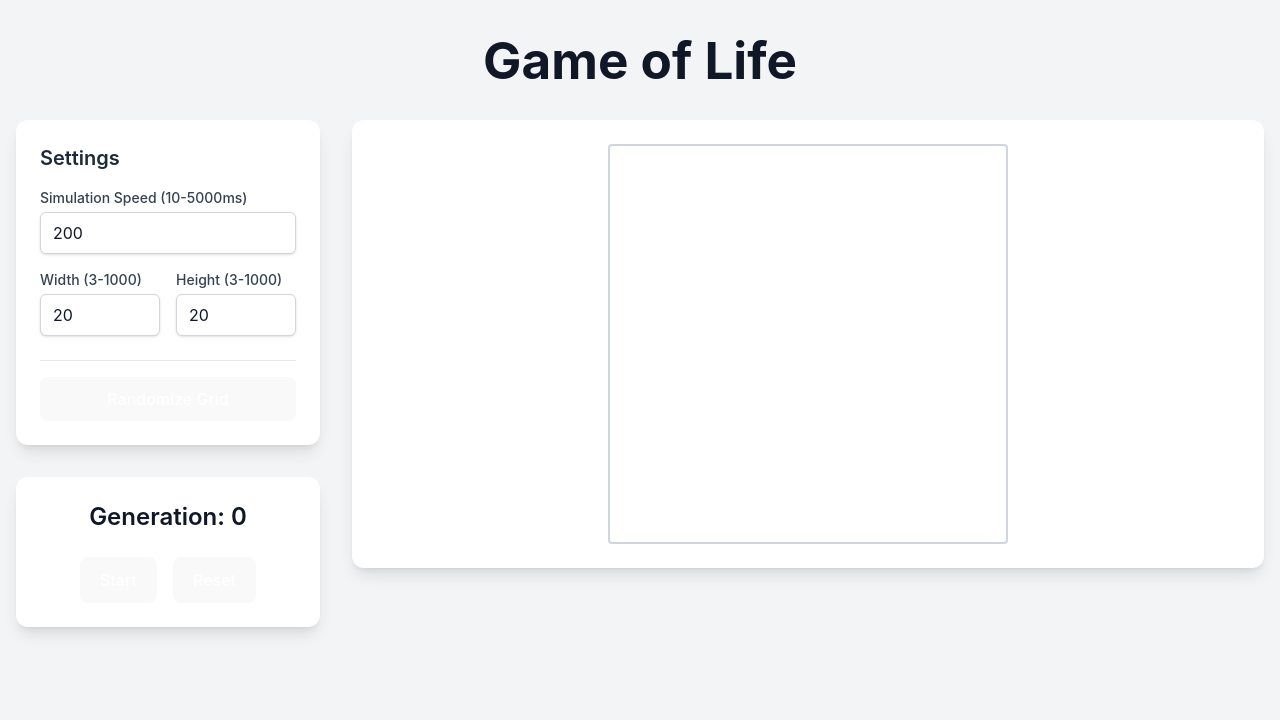
Game of Life Integration Tests › should handle edge cases gracefully
Replace the text in the number field labelled "Width (3-1000)" with "1" at (100, 315), box [40,294,160,336]
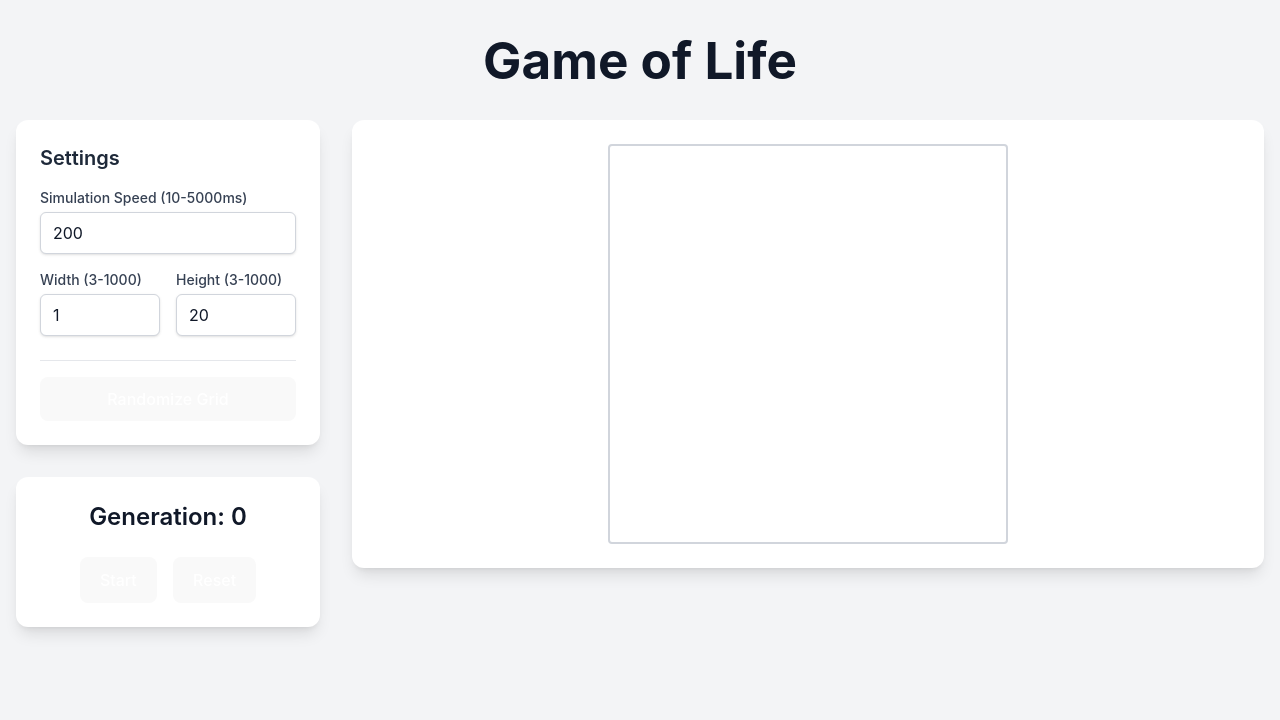
Replace the text in the number field labelled "Height (3-1000)" with "1" at (236, 315), box [176,294,296,336]
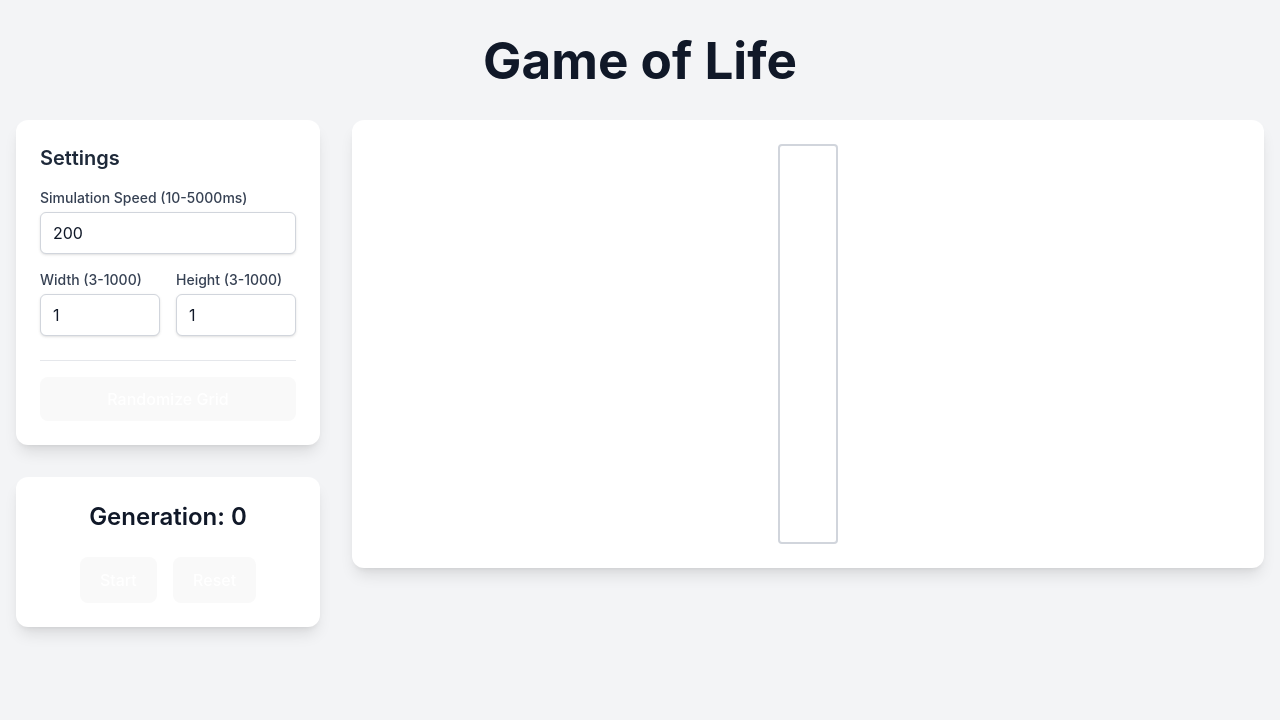
Leave the number field labelled "Height (3-1000)", box [176,294,296,336]
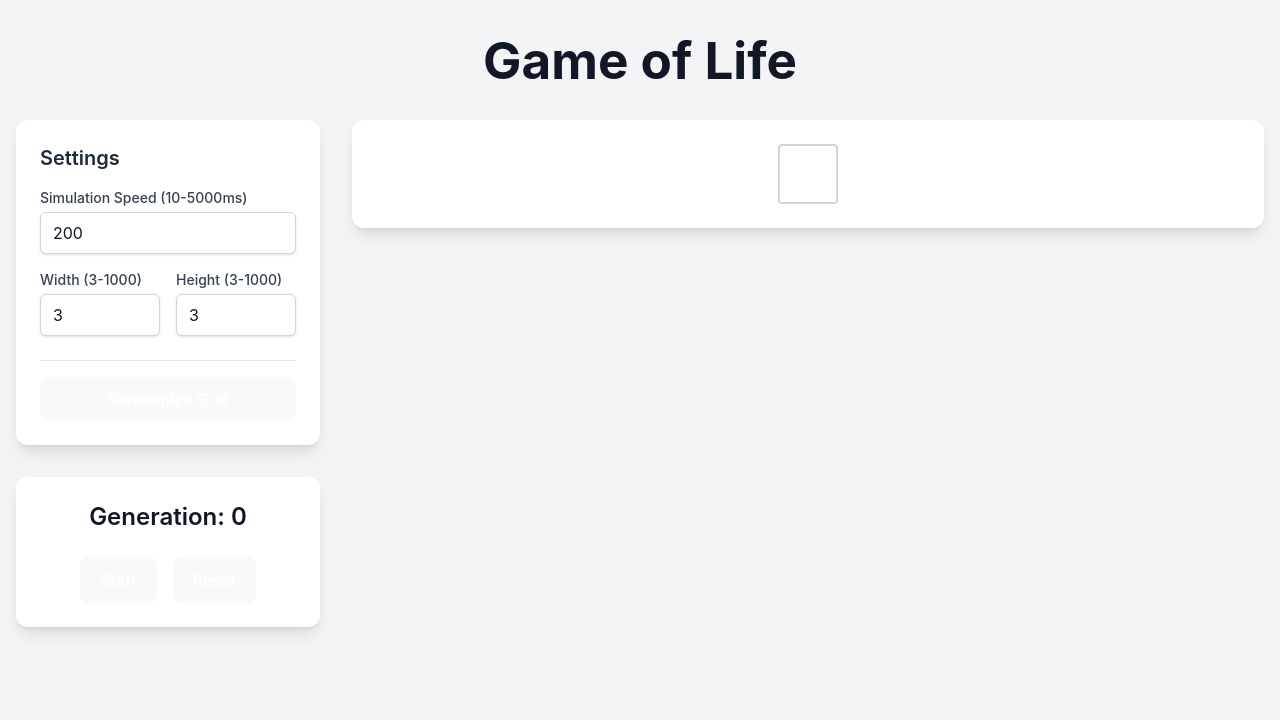
Result: the number field labelled "Width (3-1000)" holds "3" at [40,294,160,336]
Result: the number field labelled "Height (3-1000)" holds "3" at [176,294,296,336]
Test maximum speed
Replace the text in the number field labelled "Simulation Speed (10-5000ms)" with "10000" at (168, 233), box [40,212,296,254]
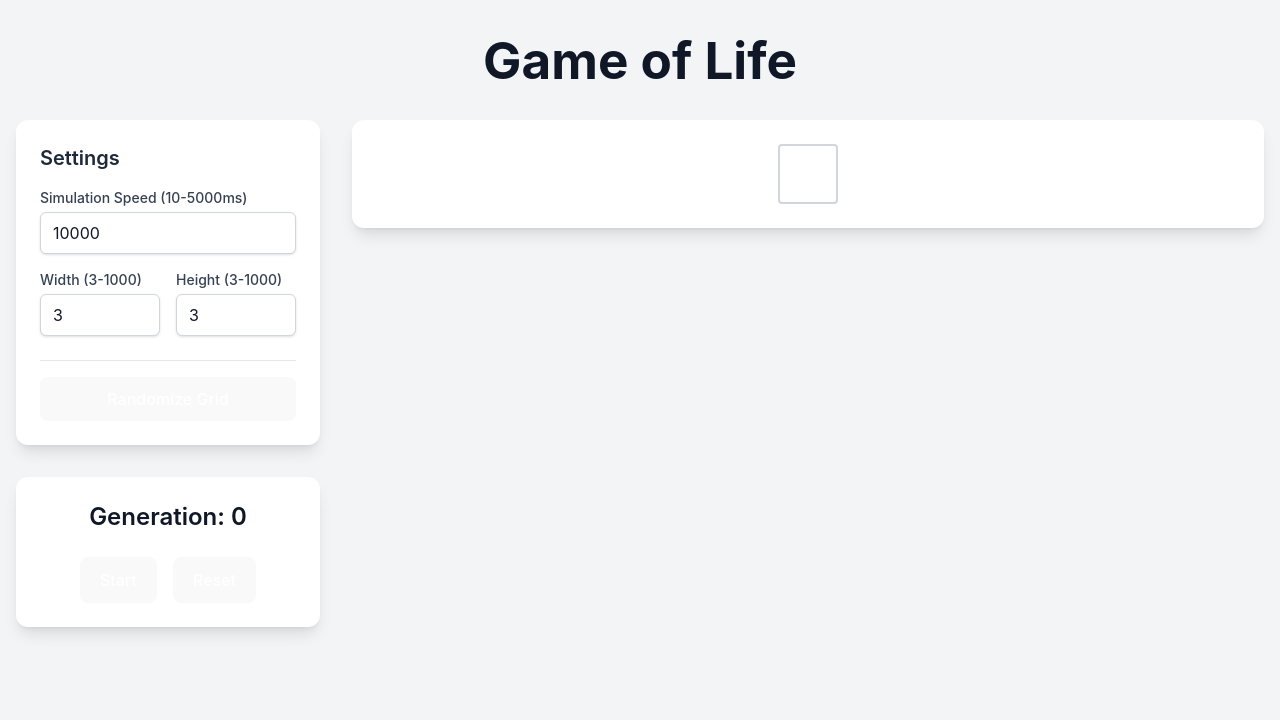
Leave the number field labelled "Simulation Speed (10-5000ms)", box [40,212,296,254]
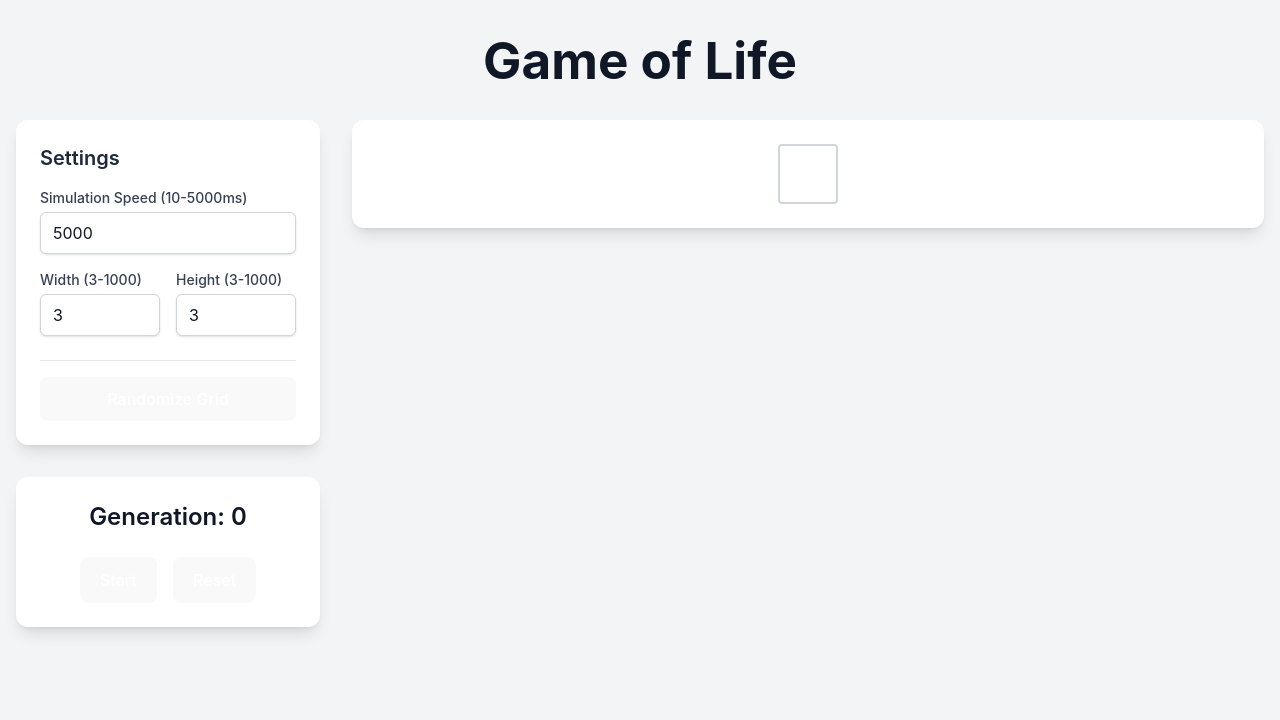
Result: the number field labelled "Simulation Speed (10-5000ms)" holds "5000" at [40,212,296,254]
